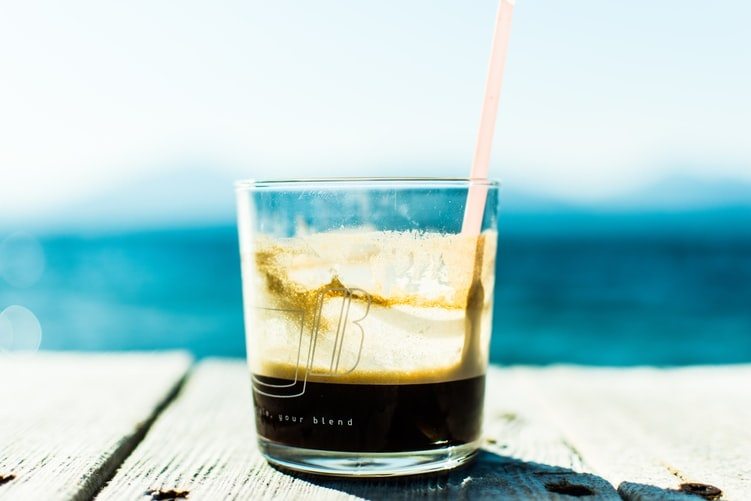whiskey: (235, 178, 505, 473)
